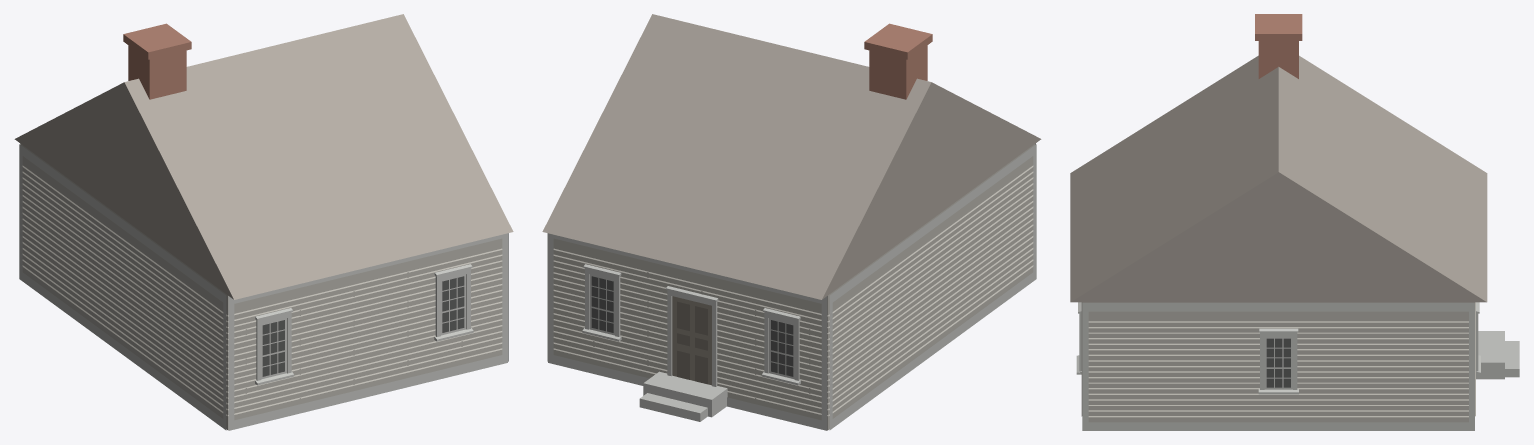
Rendered from recon_1835_north_d4_079__inferred_1835.glb.
The picture shows the model from 3 angles, left to right: view 1: azimuth 30°, elevation 25°; view 2: azimuth 150°, elevation 25°; view 3: azimuth 270°, elevation 25°; orthographic projection. The views are drawn at different scales.
Parts seen in each view (by area): view 1: recon_1835_north_d4_079__inferred_1835; view 2: recon_1835_north_d4_079__inferred_1835; view 3: recon_1835_north_d4_079__inferred_1835.
Boxes of the visible parts, x1,y1,x2,y2 form: recon_1835_north_d4_079__inferred_1835: (14, 14, 513, 430); recon_1835_north_d4_079__inferred_1835: (542, 14, 1041, 430); recon_1835_north_d4_079__inferred_1835: (1070, 14, 1519, 430).
Bounding box in the file's own units: 6.48 × 6.67 × 9.29.
